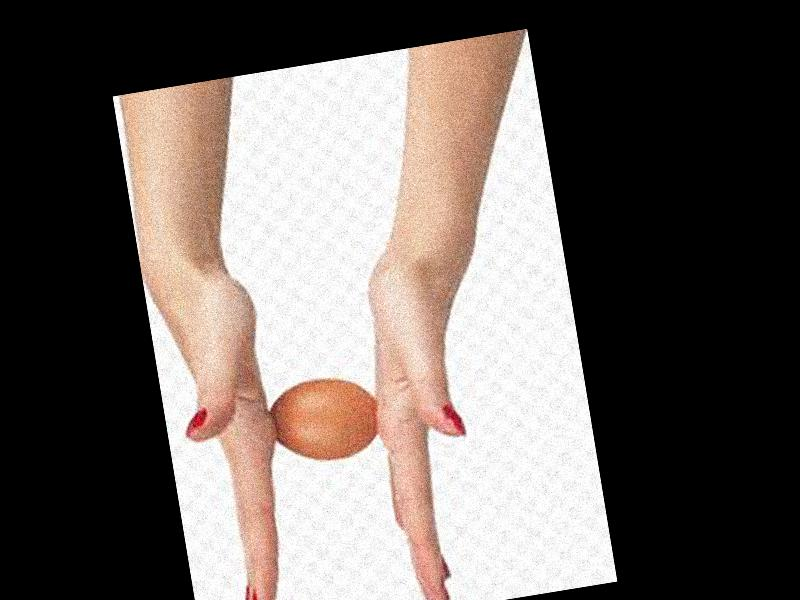Eggs: (267, 370, 384, 465)
